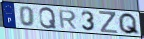0: (18, 6, 36, 28)
3: (80, 10, 96, 32)
Q: (117, 12, 141, 36), (38, 7, 58, 30)
R: (58, 9, 78, 30)
Z: (98, 11, 119, 35)
